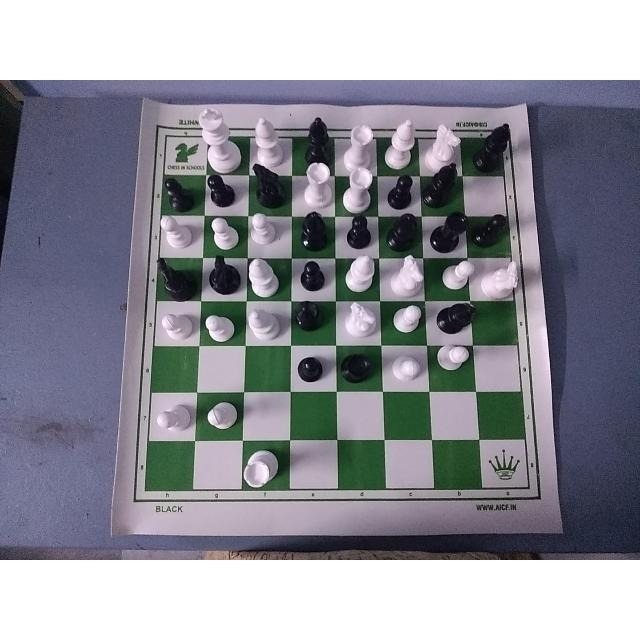black-bishop: (471, 119, 514, 174), (425, 163, 465, 211), (436, 300, 482, 335), (295, 297, 333, 339), (302, 112, 338, 156), (296, 206, 331, 251), (380, 212, 419, 248)
black-knight: (153, 255, 197, 303), (250, 165, 292, 206), (204, 252, 239, 290)
black-pawn: (150, 174, 195, 210), (293, 256, 333, 296), (384, 175, 420, 215), (298, 351, 333, 390), (340, 216, 378, 249), (476, 211, 508, 246), (203, 174, 237, 206)
black-rook: (337, 348, 377, 387), (426, 213, 467, 251)
white-bishop: (255, 111, 293, 163), (383, 115, 419, 167), (246, 254, 286, 297), (342, 251, 379, 295), (249, 304, 280, 344)
white-king: (194, 104, 246, 175)
white-knight: (485, 252, 527, 300), (387, 252, 426, 294), (341, 298, 375, 345), (428, 119, 463, 162)
white-pawn: (152, 399, 198, 439), (437, 341, 478, 383), (199, 307, 239, 347), (157, 307, 193, 351), (440, 256, 480, 294), (391, 298, 425, 342), (252, 213, 290, 249), (157, 217, 197, 251), (203, 400, 237, 440), (210, 213, 246, 248), (394, 352, 425, 392)
white-rook: (238, 449, 282, 493), (343, 114, 377, 167), (341, 164, 379, 211), (301, 160, 330, 204)
